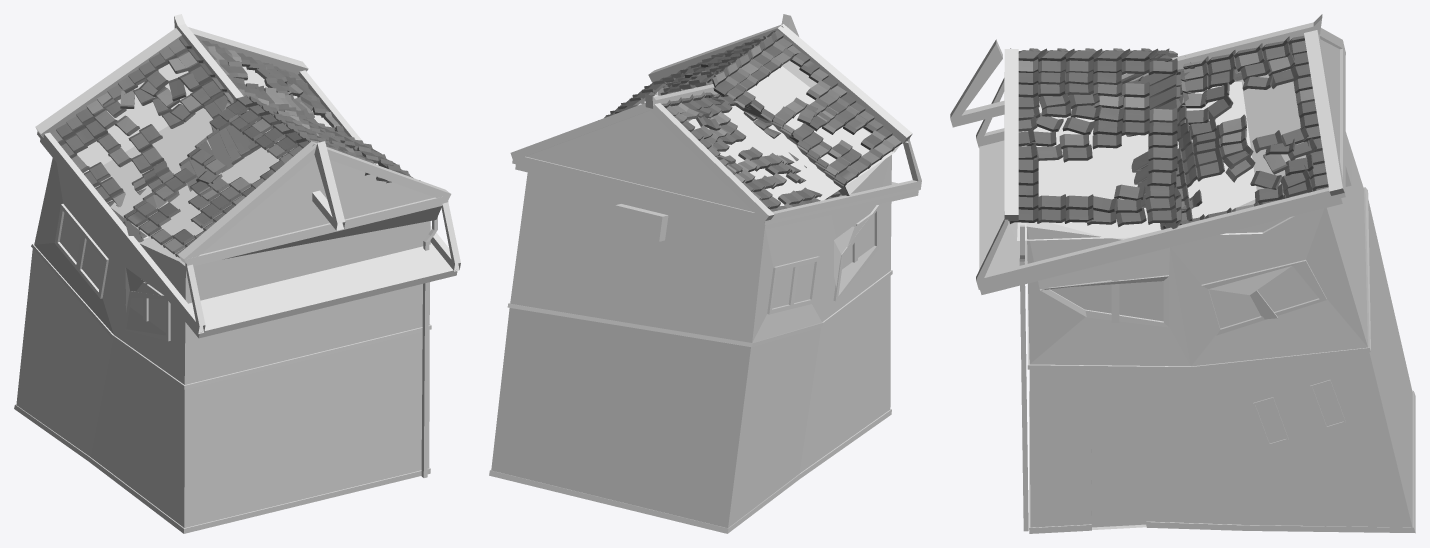
Rendered from Casa1DestruidaVer1.fbx.
The picture shows the model from 3 angles, left to right: view 1: azimuth 30°, elevation 25°; view 2: azimuth 150°, elevation 25°; view 3: azimuth 270°, elevation 25°; orthographic projection. The views are drawn at different scales.
Visible parts, largest first — view 1: Casa1DestruidaVer1; view 2: Casa1DestruidaVer1; view 3: Casa1DestruidaVer1.
Part boxes in pixels (<box>): Casa1DestruidaVer1: <box>14,14,460,533</box>; Casa1DestruidaVer1: <box>489,14,921,533</box>; Casa1DestruidaVer1: <box>950,14,1415,533</box>.
Bounding box in the file's own units: 992 × 1401 × 1315.
